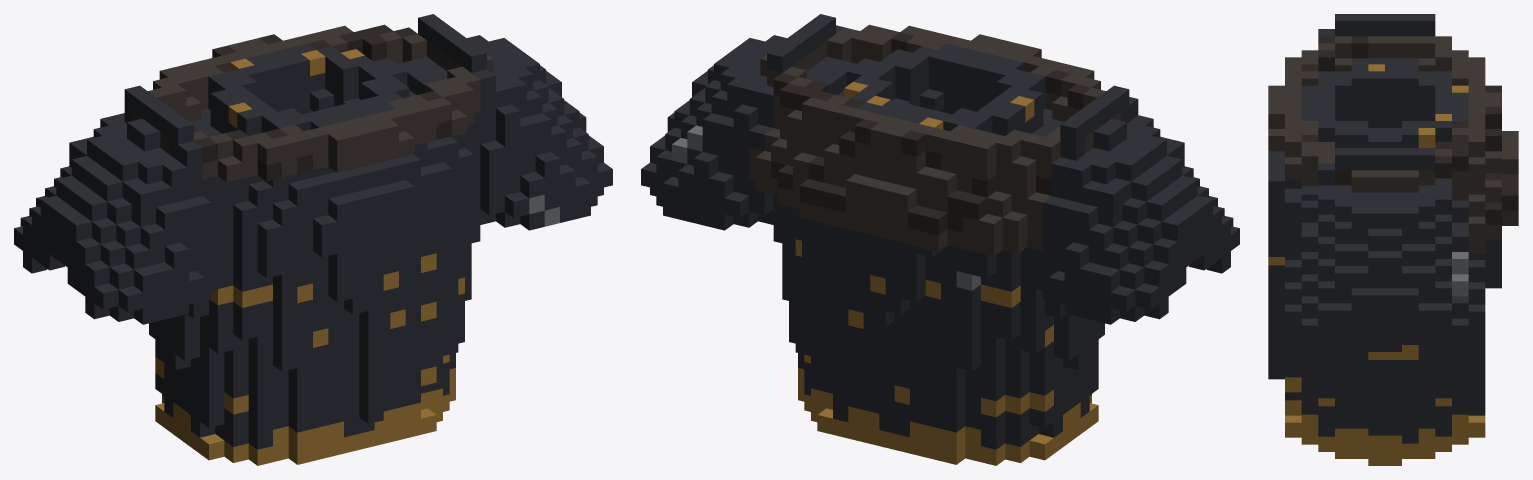
File: steel_breastplate_lod1.glb
3 views of the same model, side by side, from view 1: azimuth 30°, elevation 25°; view 2: azimuth 150°, elevation 25°; view 3: azimuth 270°, elevation 25° (orthographic). The views are drawn at different scales.
Visible parts, largest first — view 1: steel_breastplate_lod1; view 2: steel_breastplate_lod1; view 3: steel_breastplate_lod1.
Part boxes in pixels (x1,y1,x2,y2): steel_breastplate_lod1: (14, 14, 612, 465); steel_breastplate_lod1: (641, 14, 1239, 465); steel_breastplate_lod1: (1268, 14, 1518, 465).
Size of the model in its own units: 0.792 by 0.504 by 0.36.
